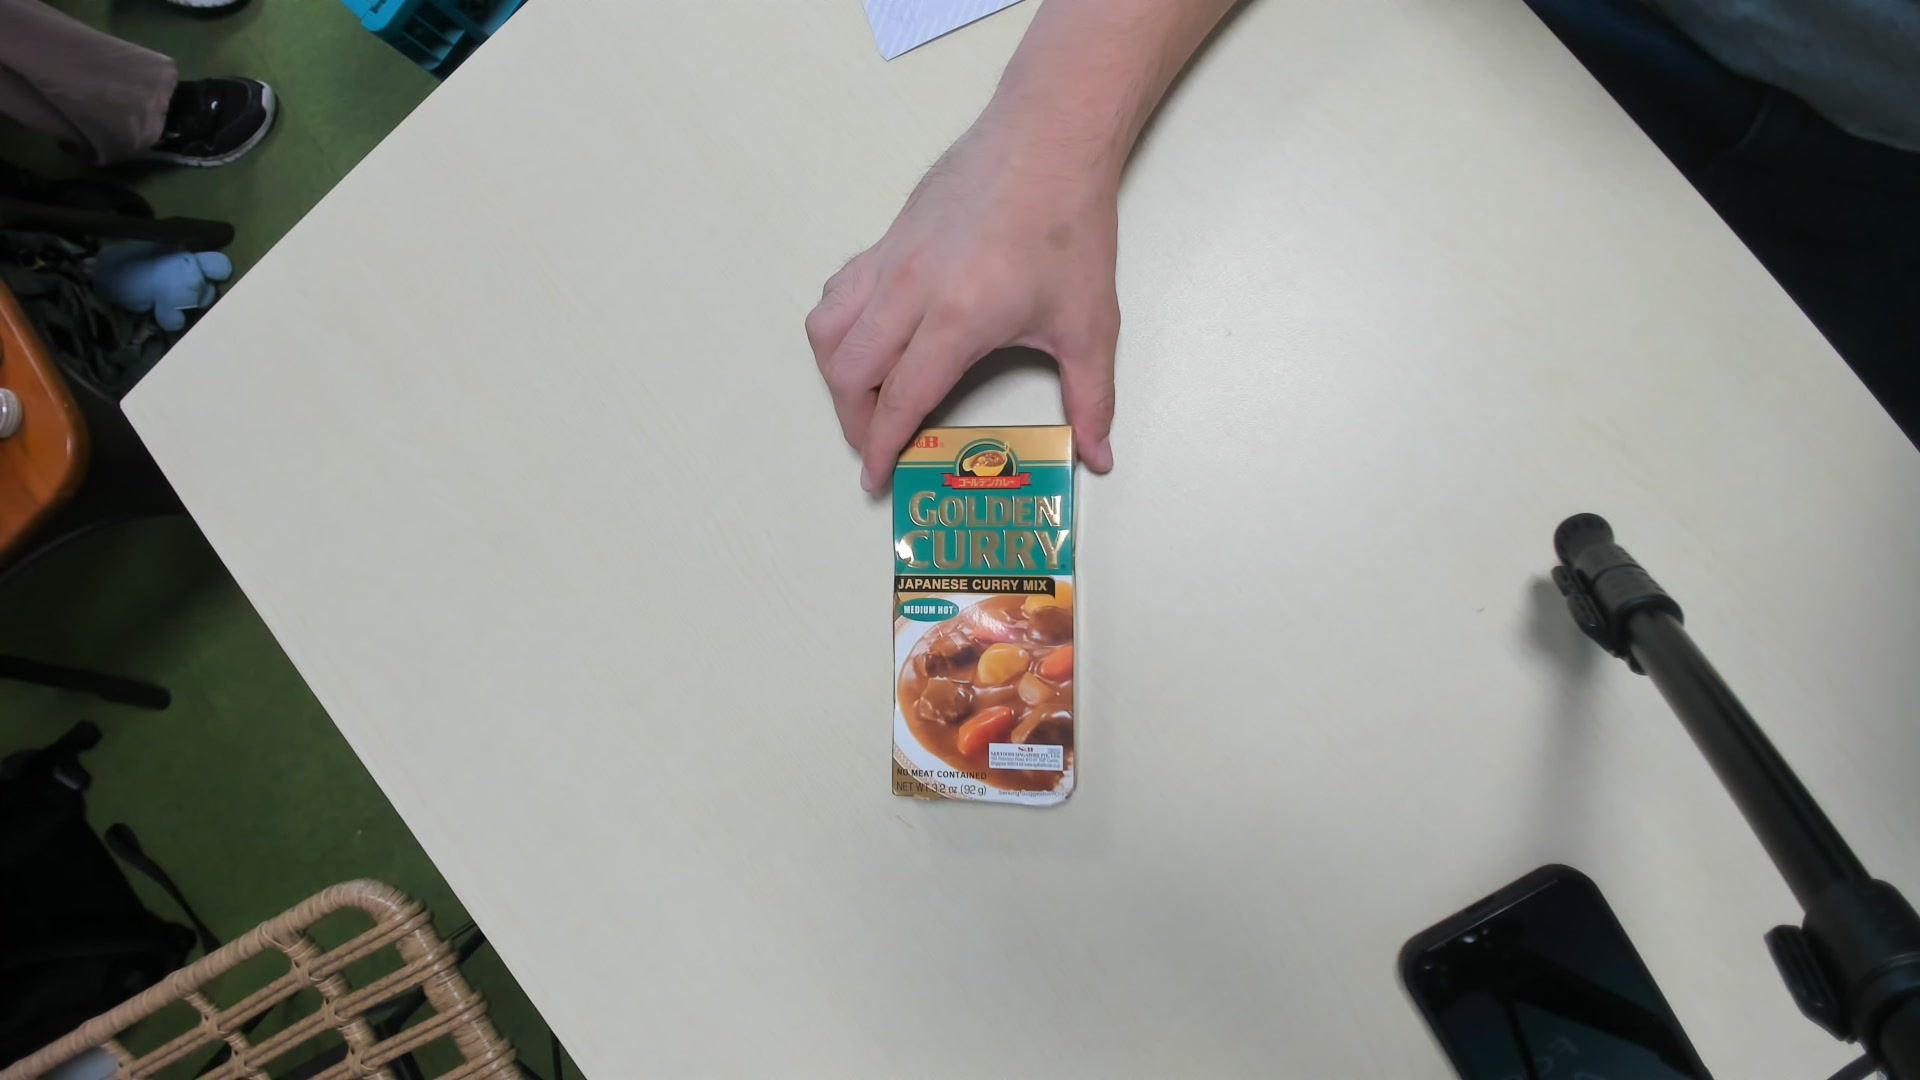OtherSauceDressing_0-99g_NonHalal_NonHealthy: (891, 422, 1080, 814)
